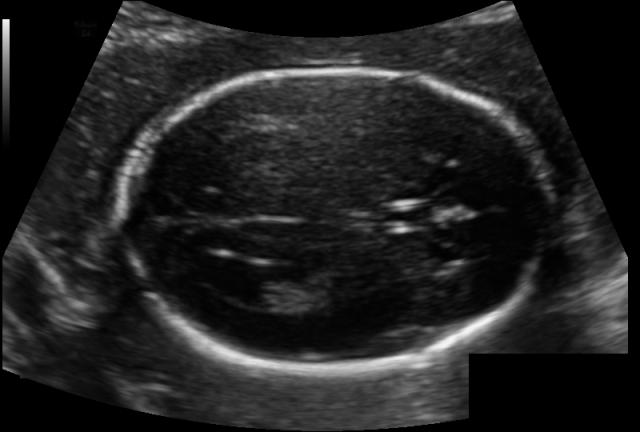CSP: (213, 260, 329, 318), (405, 185, 491, 248)
MIDLINE_FALX: (100, 169, 565, 259)
